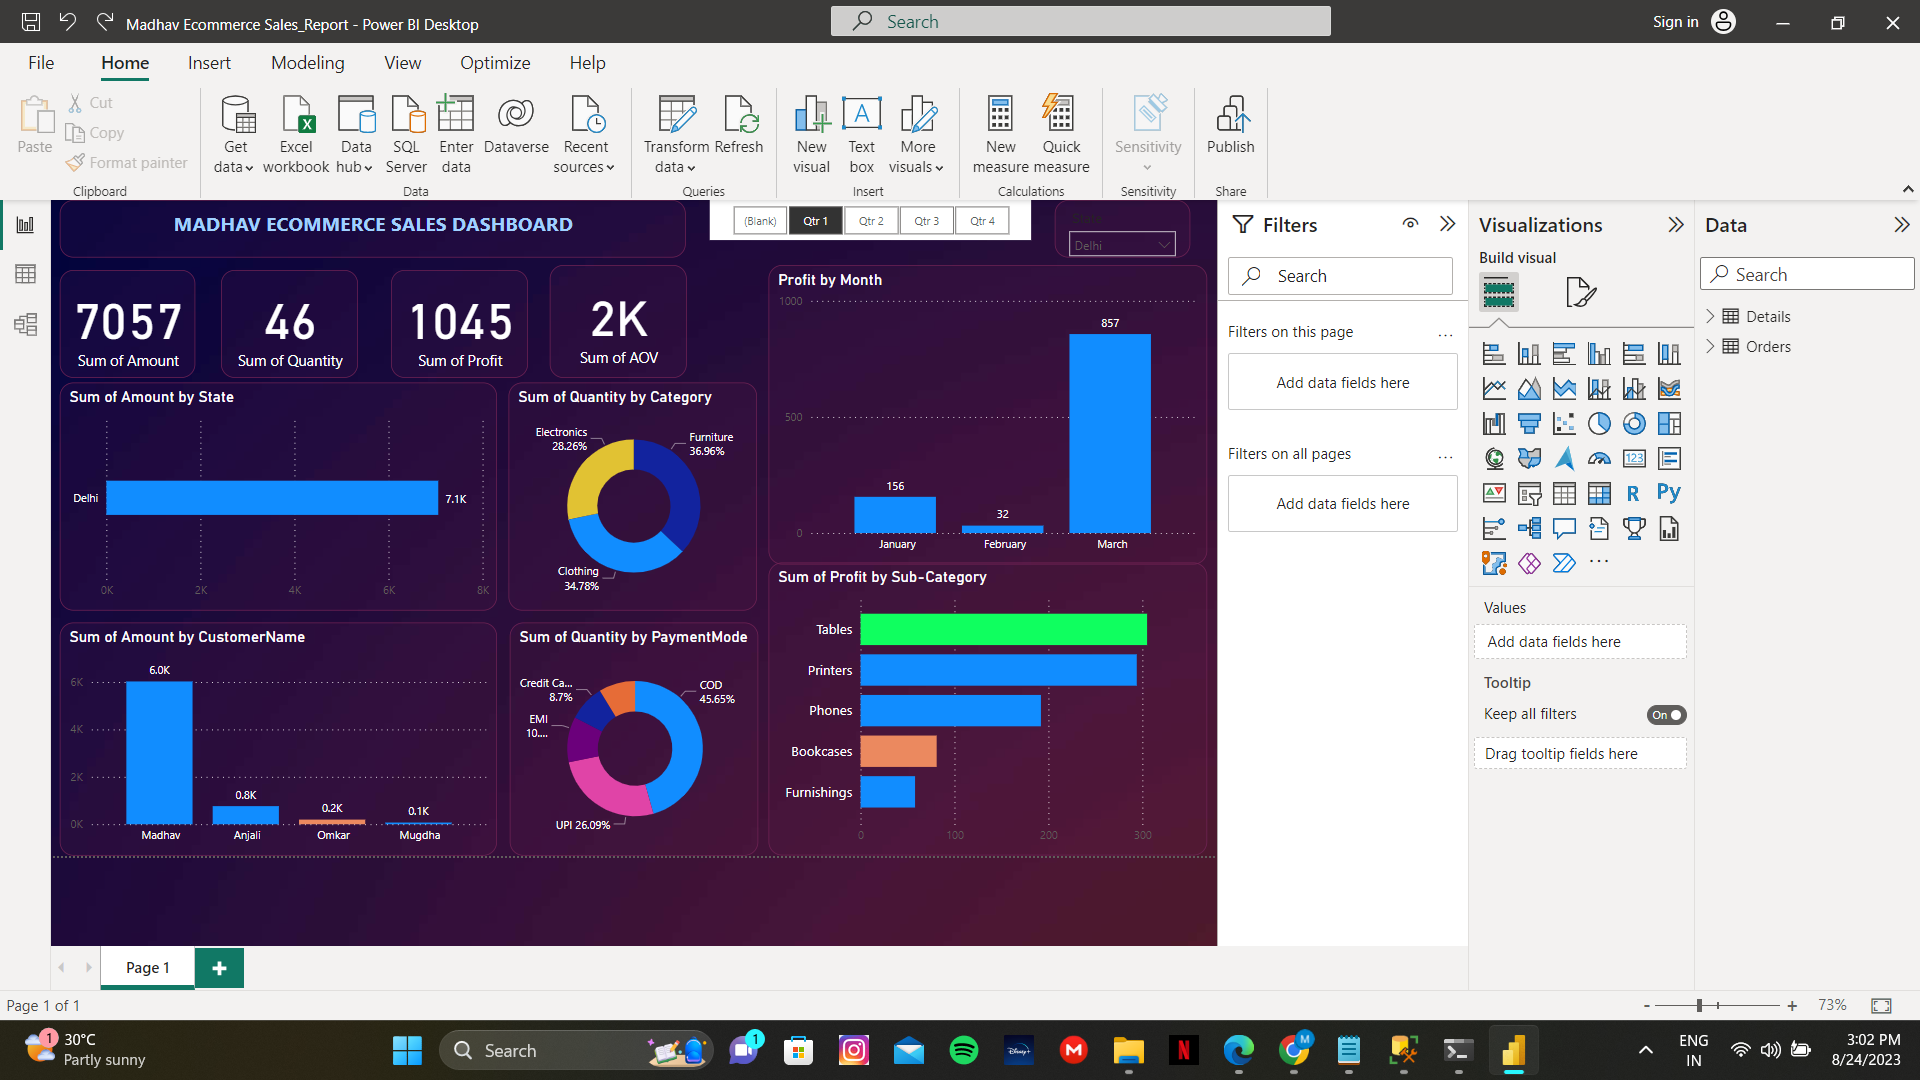

This screenshot's page, from the dashboard's own definition file:
{"tool":"powerbi","page":{"name":"Page 1","canvas":[1280,720],"ordinal":0},"visuals":[{"type":"textbox","box":[10,0,687.1,62.9],"z":0},{"type":"columnChart","title":"Profit by Month","fields":{"Y":["Sum(Details.Profit)"],"Category":["Orders.Order Date.Variation.Date Hierarchy.Month"]},"box":[787.1,71.4,481.4,328.6],"z":1000},{"type":"barChart","fields":{"Category":["Details.Sub-Category"],"Y":["Sum(Details.Profit)"]},"box":[787.1,398.6,481.4,321.4],"z":2000},{"type":"donutChart","fields":{"Category":["Details.Category"],"Y":["Sum(Details.Quantity)"]},"box":[502.9,200,272.9,250],"z":3000},{"type":"donutChart","fields":{"Y":["Sum(Details.Quantity)"],"Category":["Details.PaymentMode"]},"box":[504.3,464.3,272.9,255.7],"z":4000},{"type":"card","fields":{"Values":["Sum(Details.Amount)"]},"box":[10,77.1,148.6,118.6],"z":5000},{"type":"card","fields":{"Values":["Sum(Details.Quantity)"]},"box":[187.1,77.1,150,118.6],"z":6000},{"type":"card","fields":{"Values":["Sum(Details.Profit)"]},"box":[372.9,77.1,150,118.6],"z":7000},{"type":"card","fields":{"Values":["Sum(Details.AOV)"]},"box":[547.1,71.4,150,124.3],"z":8000},{"type":"barChart","fields":{"Category":["Orders.State"],"Y":["Sum(Details.Amount)"]},"box":[10,200,480,250],"z":9000},{"type":"columnChart","fields":{"Category":["Orders.CustomerName"],"Y":["Sum(Details.Amount)"]},"box":[10,464.3,480,255.7],"z":10000},{"type":"slicer","fields":{"Values":["Orders.Order Date.Variation.Date Hierarchy.Quarter"]},"box":[722.9,0,352.9,44.3],"z":11000},{"type":"slicer","fields":{"Values":["Orders.State"]},"box":[1101.4,0,148.6,62.9],"z":11001}]}

Visuals, with their boxes on the page's 1280x720 design canvas (x1, y1, x2, y2). These are canvas units, not pixel positions in the 1920x1080 screenshot, which may show the page scaled, cropped or inside an application window:
textbox: box=[10, 0, 697, 63]
"Profit by Month" columnChart: box=[787, 71, 1268, 400]
barChart - Details.Sub-Category x Sum(Details.Profit): box=[787, 399, 1268, 720]
donutChart - Details.Category x Sum(Details.Quantity): box=[503, 200, 776, 450]
donutChart - Sum(Details.Quantity) x Details.PaymentMode: box=[504, 464, 777, 720]
card - Sum(Details.Amount): box=[10, 77, 159, 196]
card - Sum(Details.Quantity): box=[187, 77, 337, 196]
card - Sum(Details.Profit): box=[373, 77, 523, 196]
card - Sum(Details.AOV): box=[547, 71, 697, 196]
barChart - Orders.State x Sum(Details.Amount): box=[10, 200, 490, 450]
columnChart - Orders.CustomerName x Sum(Details.Amount): box=[10, 464, 490, 720]
slicer - Orders.Order Date.Variation.Date Hierarchy.Quarter: box=[723, 0, 1076, 44]
slicer - Orders.State: box=[1101, 0, 1250, 63]
